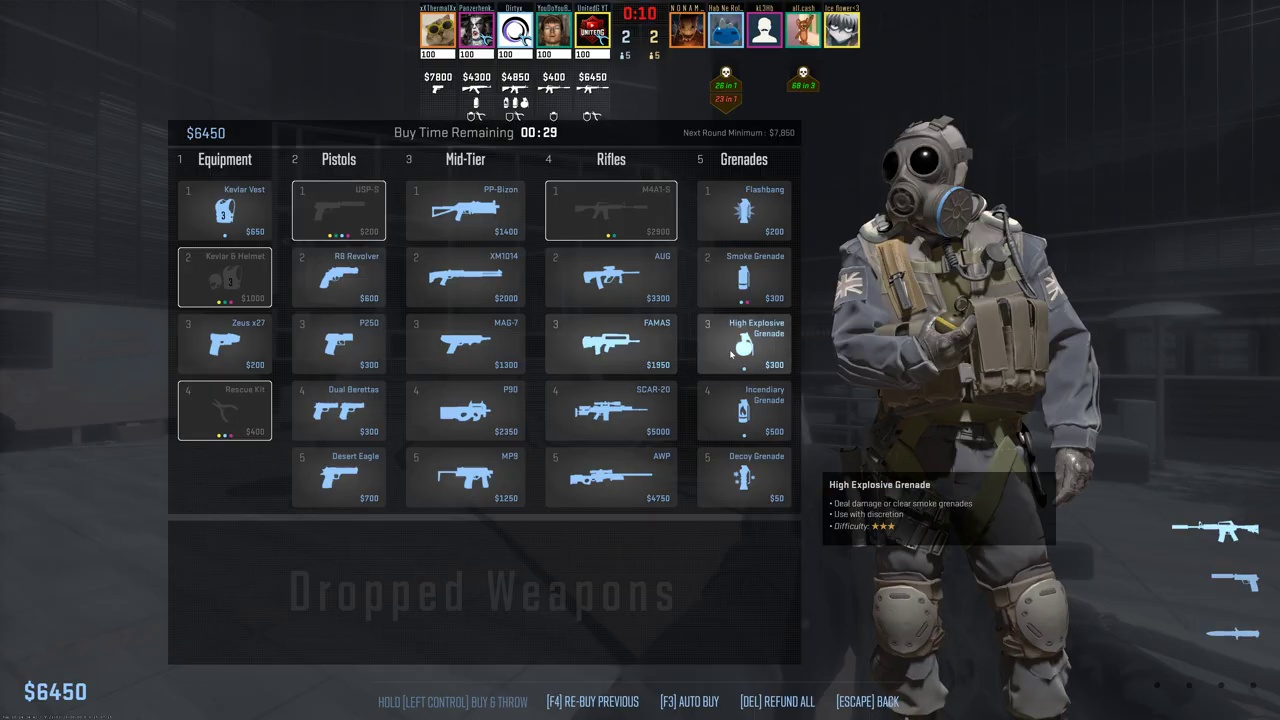CT: (855, 124, 1075, 720)
